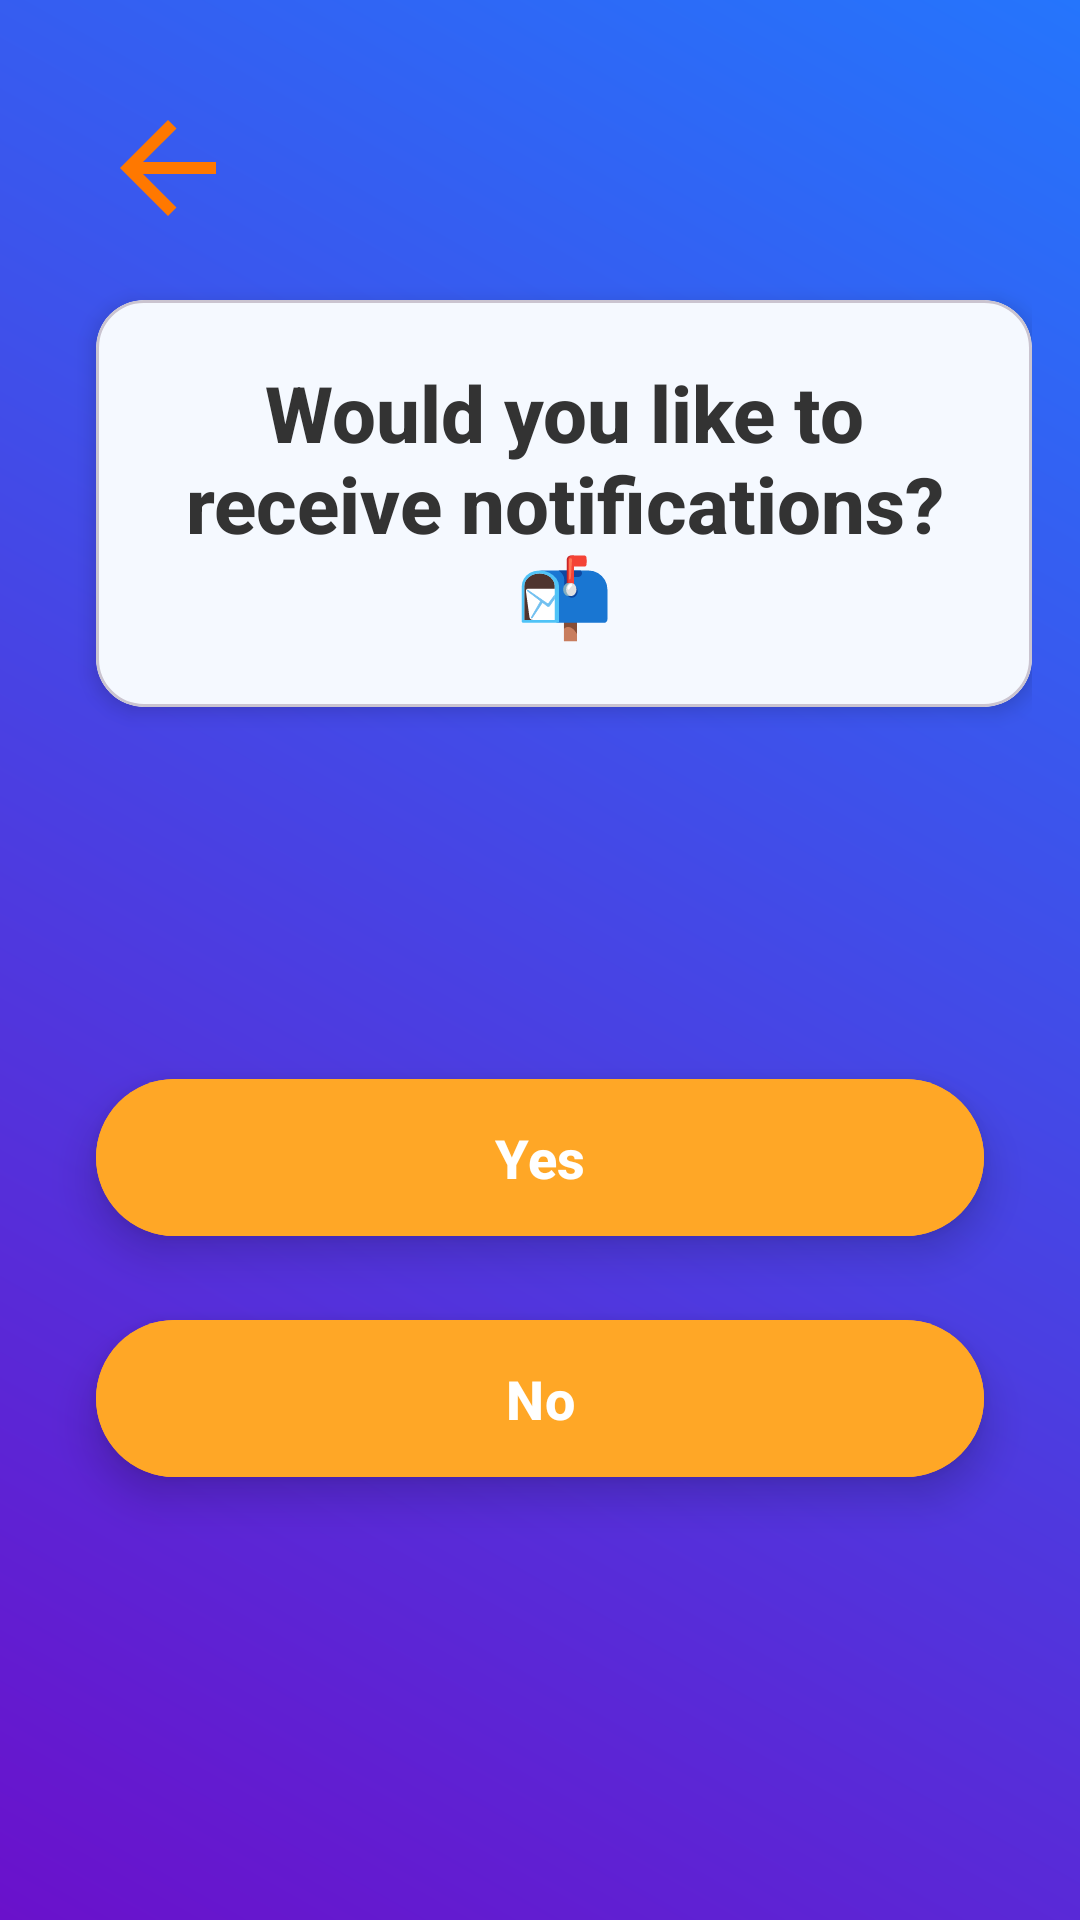

Icons on this 1080w x 1920h Android screen, each with the point to tap as [x,y]:
Back Icon: [168,168]
